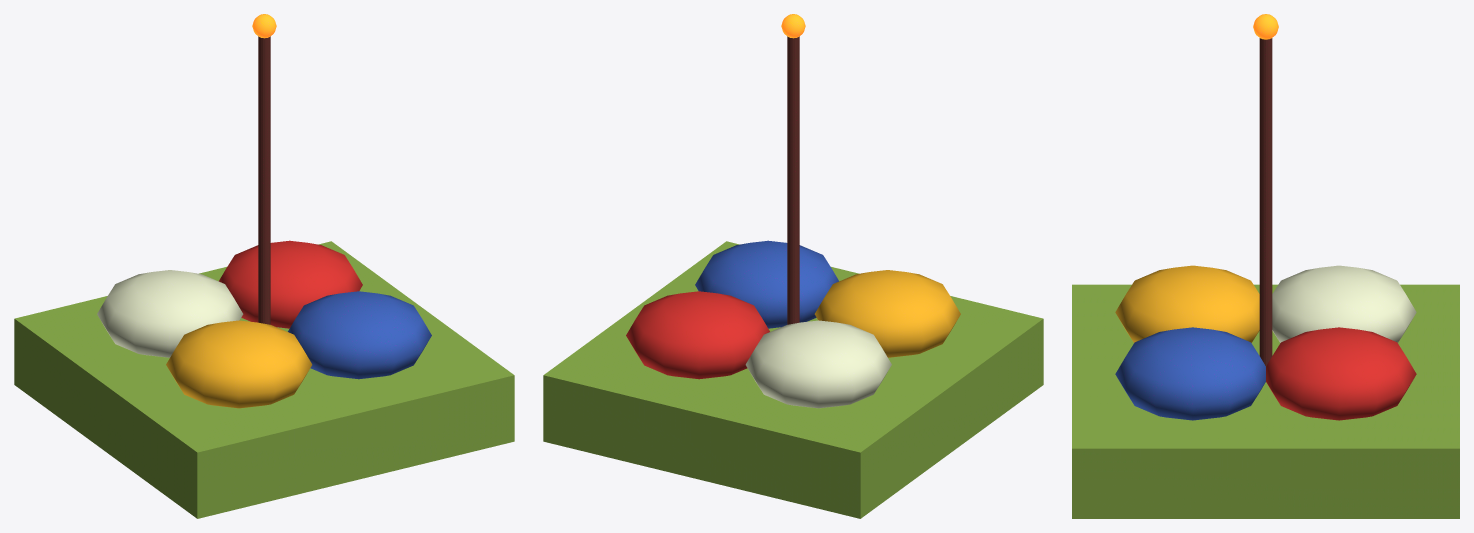
Rendered from canang.glb.
3 views of the same model, side by side, from view 1: azimuth 30°, elevation 25°; view 2: azimuth 150°, elevation 25°; view 3: azimuth 270°, elevation 25° (orthographic). The views are drawn at different scales.
Parts seen in each view (by area): view 1: Cube; view 2: Cube; view 3: Cube.
Part boxes in pixels (x1,y1,x2,y2): Cube: (14,14,514,518); Cube: (543,14,1043,518); Cube: (1072,14,1459,518).
Size of the model in its own units: 0.8333 by 1 by 0.8333.
1 material, 1 textured.
